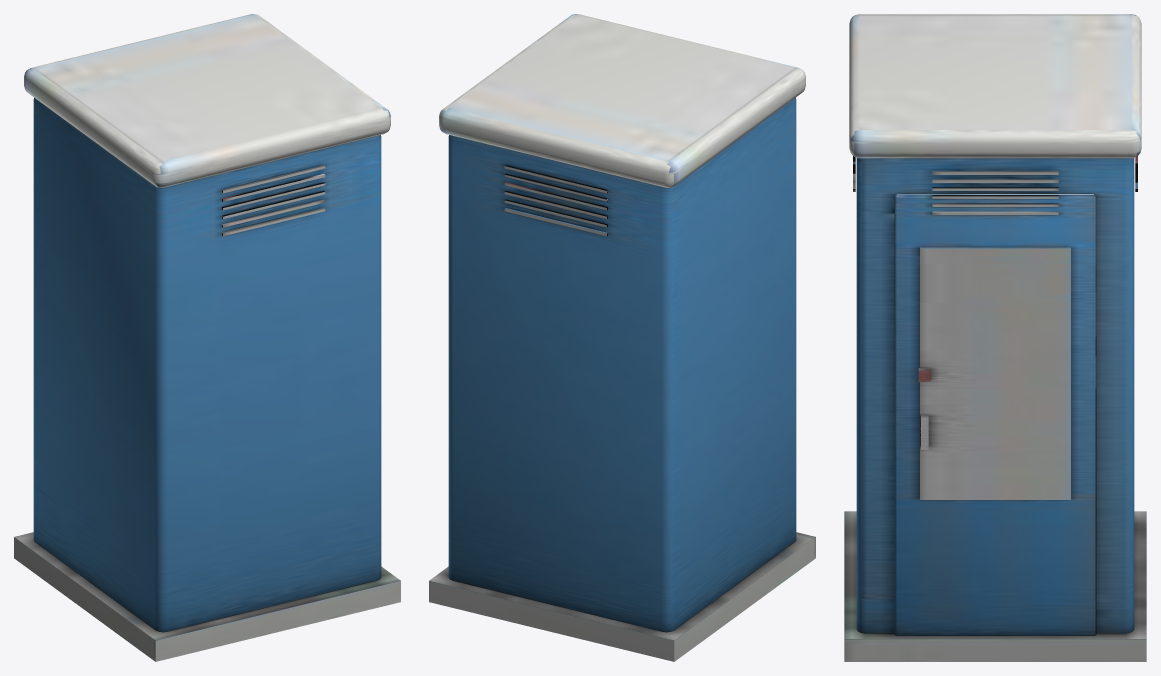
Rendered from toilet.glb.
3 views of the same model, side by side, from view 1: azimuth 30°, elevation 25°; view 2: azimuth 150°, elevation 25°; view 3: azimuth 270°, elevation 25° (orthographic). The views are drawn at different scales.
Parts seen in each view (by area): view 1: base; view 2: base; view 3: base.
Boxes of the visible parts, bbox=[...] form: base: bbox=[14, 14, 400, 661]; base: bbox=[429, 14, 815, 661]; base: bbox=[844, 14, 1146, 661].
Size of the model in its own units: 1.21 by 2.3 by 1.2.
Materials: 1 (1 with a texture image).
